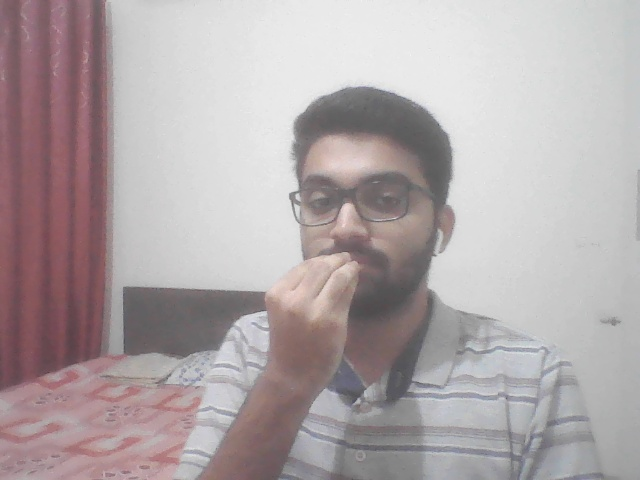eat: (229, 237, 379, 420)
